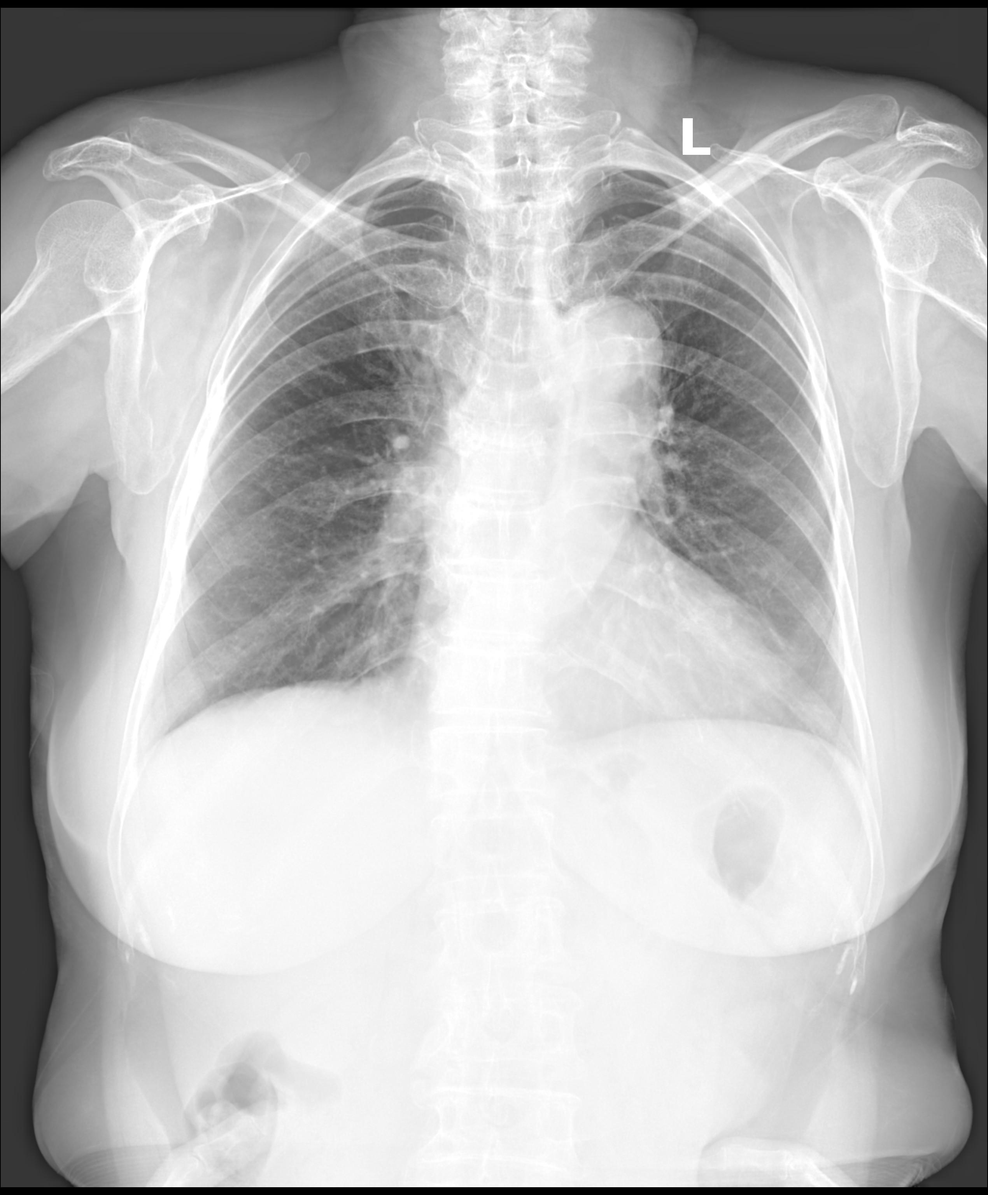Aortic enlargement: (529, 293, 663, 436)
Cardiomegaly: (400, 604, 813, 739)
